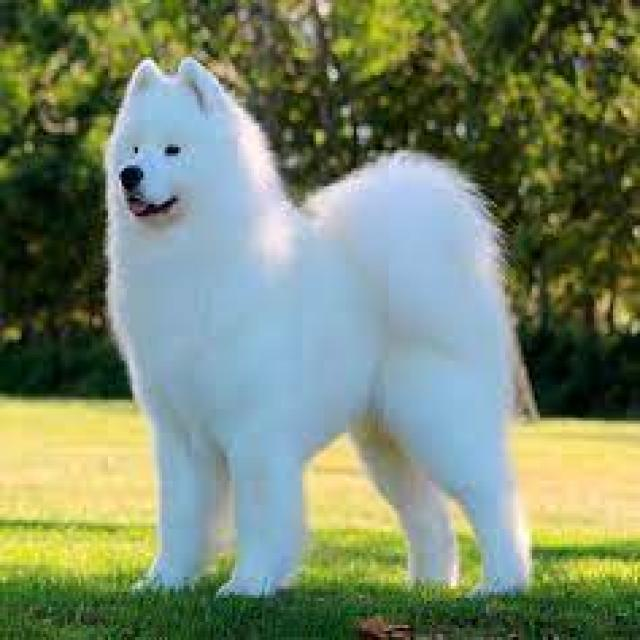dogs: (104, 56, 536, 593)
